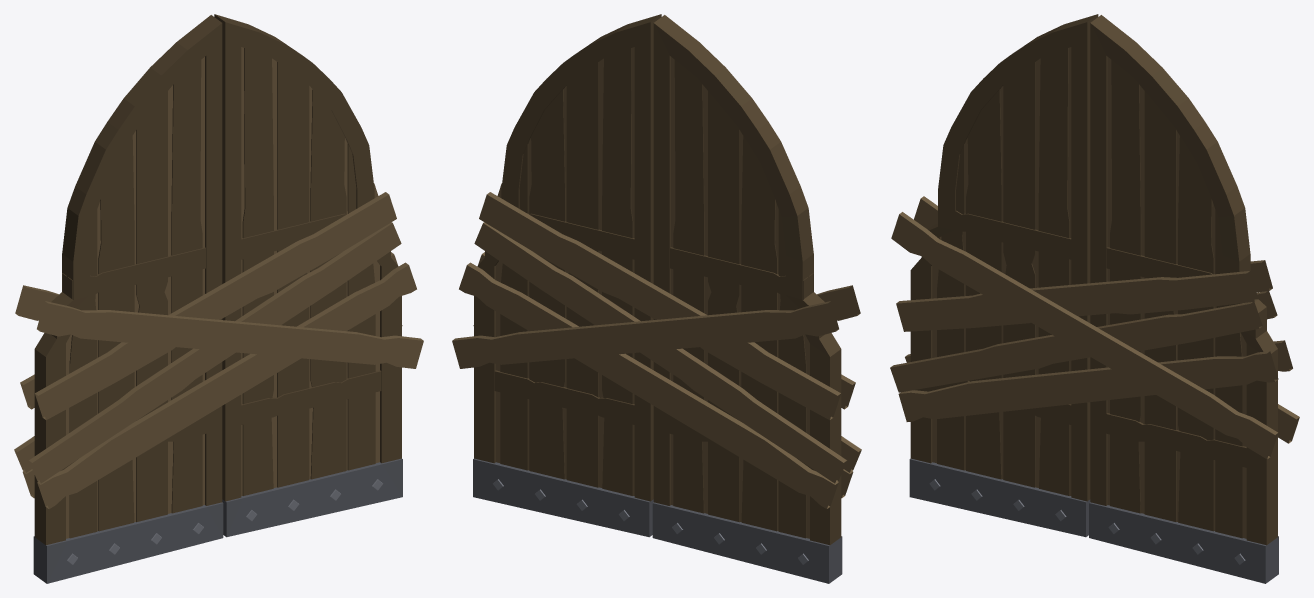
Rendered from Doors_GothicArch_Covered.glb.
3 views of the same model, side by side, from view 1: azimuth 30°, elevation 25°; view 2: azimuth 150°, elevation 25°; view 3: azimuth 330°, elevation 25° (orthographic).
Visible parts, largest first — view 1: Doors_GothicArch_Covered; view 2: Doors_GothicArch_Covered; view 3: Doors_GothicArch_Covered.
Part boxes in pixels (x1,y1,x2,y2): Doors_GothicArch_Covered: [14, 14, 423, 583]; Doors_GothicArch_Covered: [452, 14, 861, 583]; Doors_GothicArch_Covered: [890, 14, 1299, 583].
Size of the model in its own units: 2.52 by 3.21 by 0.2789.
